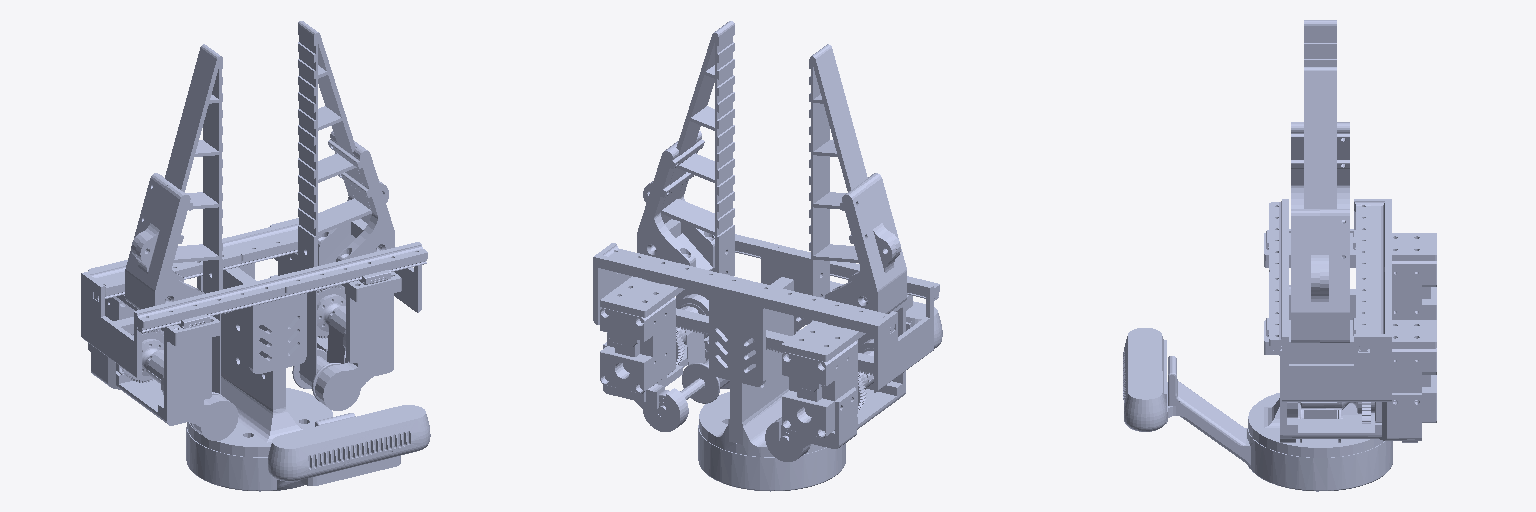
robot.urdf — AP_fullgripper_urdf:
<?xml version="1.0" encoding="utf-8"?>
<!-- This URDF was automatically created by SolidWorks to URDF Exporter! Originally created by Stephen Brawner (brawner@gmail.com) 
     Commit Version: 1.6.0-4-g7f85cfe  Build Version: 1.6.7995.38578
     For more information, please see http://wiki.ros.org/sw_urdf_exporter -->
<robot
  name="AP_fullgripper_urdf">
  <link
    name="ap_gripper_base_link">
    <inertial>
      <origin
        xyz="-2.5922E-06 -0.017647 0.04228"
        rpy="0 0 0" />
      <mass
        value="0.25616" />
      <inertia
        ixx="0.00035197"
        ixy="-9.2248E-08"
        ixz="6.3513E-09"
        iyy="0.0003382"
        iyz="9.2522E-06"
        izz="0.00035858" />
    </inertial>
    <visual>
      <origin
        xyz="0 0 0"
        rpy="0 0 0" />
      <geometry>
        <mesh
          filename="package://AP_fullgripper_urdf/meshes/base_link.STL" />
      </geometry>
      <material
        name="">
        <color
          rgba="0.79216 0.81961 0.93333 1" />
      </material>
    </visual>
    <collision>
      <origin
        xyz="0 0 0"
        rpy="0 0 0" />
      <geometry>
        <mesh
          filename="package://AP_fullgripper_urdf/meshes/base_link.STL" />
      </geometry>
    </collision>
  </link>
  <link
    name="left_Link">
    <inertial>
      <origin
        xyz="0.020972 -0.018885 -0.0095125"
        rpy="0 0 0" />
      <mass
        value="0.15431" />
      <inertia
        ixx="0.00010847"
        ixy="-6.731E-06"
        ixz="2.411E-06"
        iyy="4.784E-05"
        iyz="4.9173E-06"
        izz="8.4969E-05" />
    </inertial>
    <visual>
      <origin
        xyz="0 0 0"
        rpy="0 0 0" />
      <geometry>
        <mesh
          filename="package://AP_fullgripper_urdf/meshes/left_Link.STL" />
      </geometry>
      <material
        name="">
        <color
          rgba="0.79216 0.81961 0.93333 1" />
      </material>
    </visual>
    <collision>
      <origin
        xyz="0 0 0"
        rpy="0 0 0" />
      <geometry>
        <mesh
          filename="package://AP_fullgripper_urdf/meshes/left_Link.STL" />
      </geometry>
    </collision>
  </link>
  <joint
    name="left_finger"
    type="prismatic">
    <origin
      xyz="0.09 0.0265 0.1018"
      rpy="1.5708 0 3.1416" />
    <parent
      link="ap_gripper_base_link" />
    <child
      link="left_Link" />
    <axis
      xyz="1 0 0" />
    <limit
      lower="0.005"
      upper="0.025"
      effort="4"
      velocity="0.059" />
  </joint>
  <link
    name="right_Link">
    <inertial>
      <origin
        xyz="0.16245 -0.04185 -0.00075"
        rpy="0 0 0" />
      <mass
        value="0.0034681" />
      <inertia
        ixx="2.0155E-07"
        ixy="-2.8046E-23"
        ixz="-1.4199E-21"
        iyy="2.0155E-07"
        iyz="2.3683E-22"
        izz="3.8865E-07" />
    </inertial>
    <visual>
      <origin
        xyz="0 0 0"
        rpy="0 0 0" />
      <geometry>
        <mesh
          filename="package://AP_fullgripper_urdf/meshes/right_Link.STL" />
      </geometry>
      <material
        name="">
        <color
          rgba="0.79216 0.81961 0.93333 1" />
      </material>
    </visual>
    <collision>
      <origin
        xyz="0 0 0"
        rpy="0 0 0" />
      <geometry>
        <mesh
          filename="package://AP_fullgripper_urdf/meshes/right_Link.STL" />
      </geometry>
    </collision>
  </link>
  <joint
    name="right_finger"
    type="prismatic">
    <origin
      xyz="0.09 0.0265 0.1018"
      rpy="1.5708 0 3.1416" />
    <parent
      link="ap_gripper_base_link" />
    <child
      link="right_Link" />
    <axis
      xyz="-1 0 0" />
    <limit
      lower="0.005"
      upper="0.025"
      effort="4"
      velocity="0.059" />
  </joint>
</robot>

--- Render facts (derived) ---
3 views of the same robot in one strip: view 1: azimuth 30°, elevation 25°; view 2: azimuth 150°, elevation 25°; view 3: azimuth 270°, elevation 25° (orthographic).
Robot: AP_fullgripper_urdf — 3 links, 2 joints (2 prismatic); root link ap_gripper_base_link; default pose: joints at zero except 2 at the middle of their limits (left_finger = 0.015, right_finger = 0.015).
Visible links, largest first — view 1: ap_gripper_base_link, right_Link, left_Link; view 2: ap_gripper_base_link, left_Link, right_Link; view 3: ap_gripper_base_link, left_Link, right_Link.
Link boxes in pixels (box(x1,y1,x2,y2)): ap_gripper_base_link: box(81, 220, 430, 491); right_Link: box(88, 44, 238, 440); left_Link: box(270, 21, 401, 410); ap_gripper_base_link: box(593, 234, 942, 491); left_Link: box(600, 21, 734, 431); right_Link: box(765, 44, 912, 461); ap_gripper_base_link: box(1123, 199, 1392, 491); left_Link: box(1264, 67, 1436, 442); right_Link: box(1264, 20, 1436, 319).
Size in the robot's own frame: 0.18 by 0.1738 by 0.2549 metres.
3 mesh visuals loaded from 3 distinct referenced files (3 binary STL).
